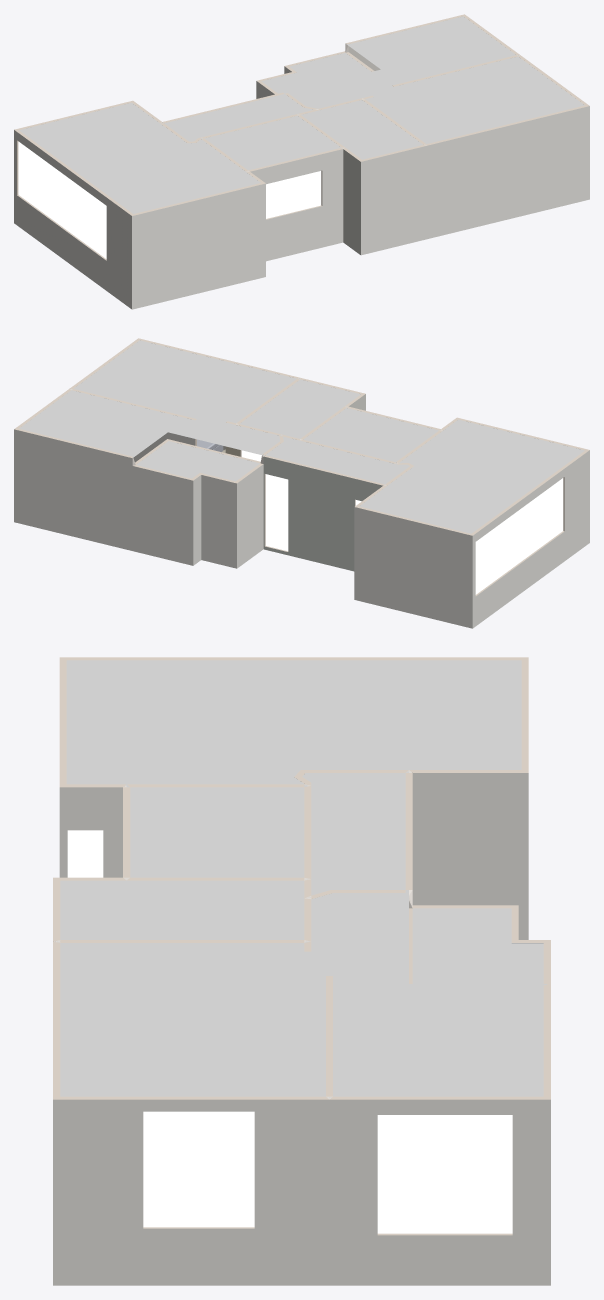
3 renders of one model, top to bottom at view 1: azimuth 30°, elevation 25°; view 2: azimuth 150°, elevation 25°; view 3: azimuth 270°, elevation 25°, orthographic. The views are drawn at different scales.
Visible parts, largest first — view 1: Wall_32, Wall_8, Ceiling_Bedroom_2, Wall_5, Ceiling_Bedroom_1_1, Wall_29, Ceiling_Bedroom_3, Wall_9, Ceiling_Bedroom_1_0, Window_0, Ceiling_Bedroom_4, Ceiling_Kitchen_1 (+11 smaller); view 2: Wall_14, Wall_6, Ceiling_Bedroom_2, Wall_20, Wall_5, Ceiling_Bedroom_1_1, Ceiling_Bedroom_3, Wall_4, Ceiling_Bedroom_1_0, Window_0, Ceiling_Bedroom_4, Ceiling_Kitchen_1 (+14 smaller); view 3: Wall_17, Ceiling_Bedroom_2, Wall_11, Ceiling_Bedroom_1_1, Ceiling_Bedroom_3, Ceiling_Bedroom_1_0, Wall_2, Window_2, Ceiling_Bedroom_4, Ceiling_Kitchen_1, Window_3, Ceiling_Hallway_2 (+17 smaller).
Boxes of the visible parts, x1=… form: Wall_32: x1=426, y1=105, x2=589, y2=239; Wall_8: x1=132, y1=183, x2=265, y2=309; Ceiling_Bedroom_2: x1=394, y1=56, x2=584, y2=135; Wall_5: x1=14, y1=129, x2=132, y2=309; Ceiling_Bedroom_1_1: x1=19, y1=102, x2=204, y2=172; Wall_29: x1=361, y1=145, x2=426, y2=255; Ceiling_Bedroom_3: x1=346, y1=16, x2=517, y2=83; Wall_9: x1=248, y1=147, x2=343, y2=261; Ceiling_Bedroom_1_0: x1=78, y1=142, x2=245, y2=202; Window_0: x1=18, y1=141, x2=106, y2=258; Ceiling_Bedroom_4: x1=299, y1=100, x2=422, y2=159; Ceiling_Kitchen_1: x1=208, y1=118, x2=342, y2=170; Wall_14: x1=14, y1=428, x2=132, y2=550; Wall_6: x1=354, y1=506, x2=472, y2=628; Ceiling_Bedroom_2: x1=73, y1=340, x2=262, y2=418; Wall_20: x1=263, y1=455, x2=384, y2=571; Wall_5: x1=471, y1=450, x2=589, y2=628; Ceiling_Bedroom_1_1: x1=359, y1=460, x2=528, y2=533; Ceiling_Bedroom_3: x1=19, y1=390, x2=186, y2=457; Wall_4: x1=132, y1=465, x2=193, y2=565; Ceiling_Bedroom_1_0: x1=403, y1=430, x2=569, y2=491; Window_0: x1=475, y1=478, x2=563, y2=594; Ceiling_Bedroom_4: x1=240, y1=379, x2=360, y2=438; Ceiling_Kitchen_1: x1=307, y1=407, x2=438, y2=459; Wall_17: x1=53, y1=1096, x2=329, y2=1285; Ceiling_Bedroom_2: x1=60, y1=976, x2=329, y2=1097; Wall_11: x1=329, y1=1096, x2=550, y2=1285; Ceiling_Bedroom_1_1: x1=289, y1=660, x2=521, y2=785; Ceiling_Bedroom_3: x1=329, y1=984, x2=547, y2=1097; Ceiling_Bedroom_1_0: x1=126, y1=660, x2=289, y2=785; Wall_2: x1=409, y1=770, x2=528, y2=939; Window_2: x1=377, y1=1115, x2=512, y2=1233; Ceiling_Bedroom_4: x1=57, y1=879, x2=307, y2=941; Ceiling_Kitchen_1: x1=126, y1=785, x2=289, y2=877; Window_3: x1=143, y1=1111, x2=254, y2=1227; Ceiling_Hallway_2: x1=308, y1=786, x2=408, y2=897.
Size of the model in its own units: 14.78 by 2.89 by 7.03.
46 materials, 20 textured.
